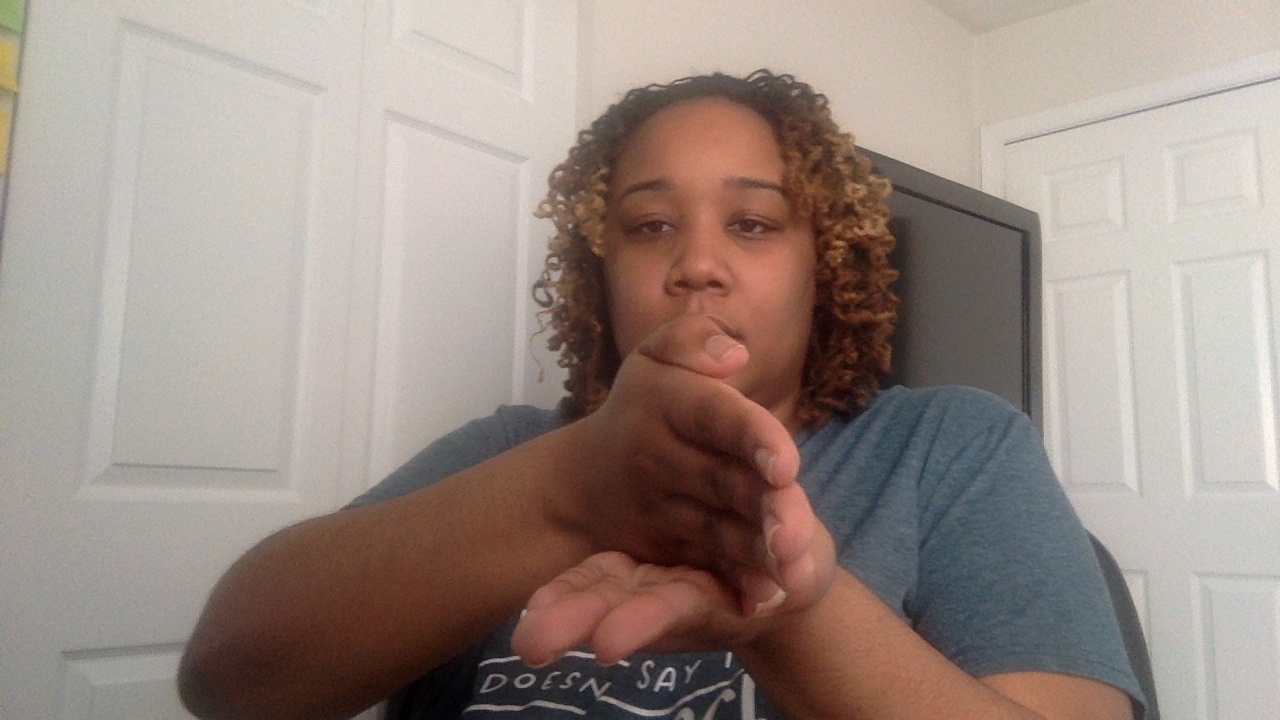stop: (517, 311, 850, 673)
